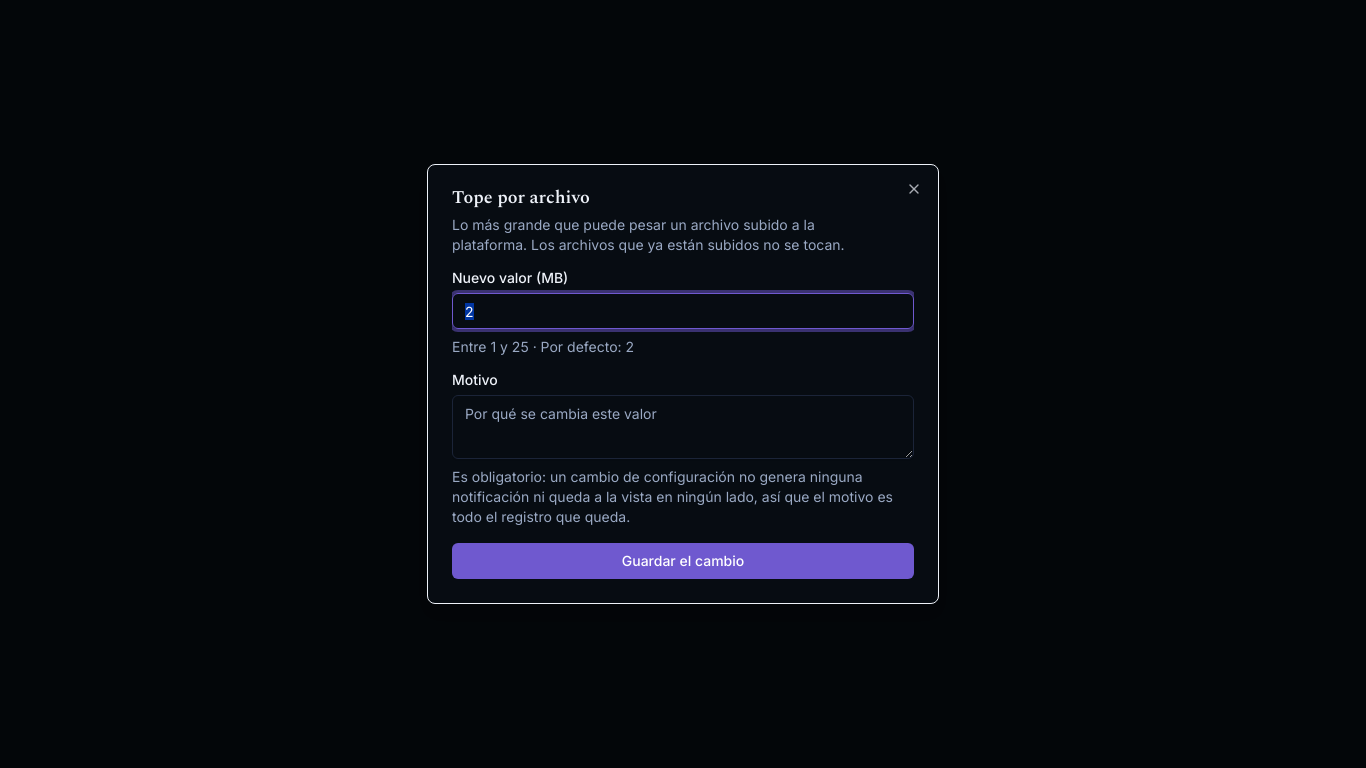
Test: SettingValueDialog › refuses a value outside the setting’s own range, naming both bounds
The image size is (1366, 768).
Replace the text in the field labelled "Nuevo valor (MB)" with "500" at (683, 311), box [452,293,914,329]
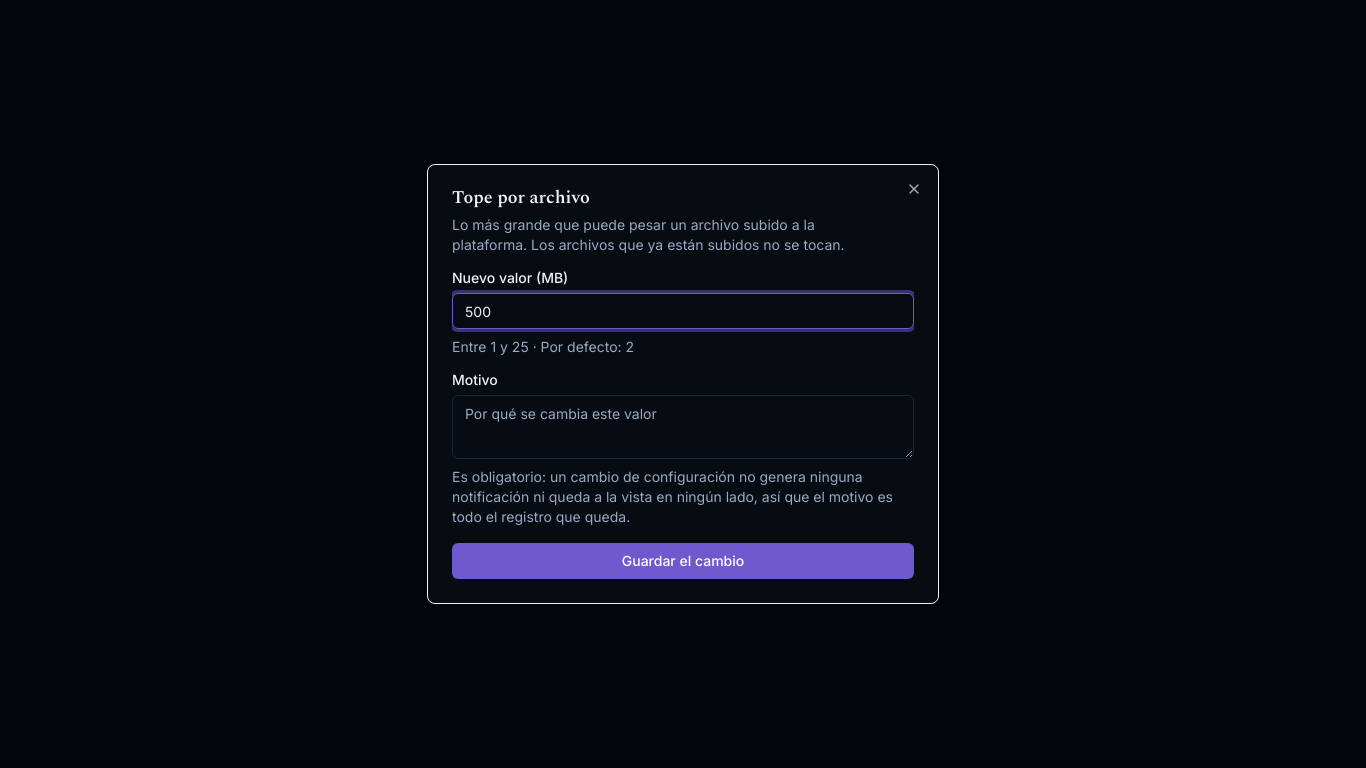
Type "porque sí" into the text box labelled "Motivo" at (683, 427), box [452,395,914,459]
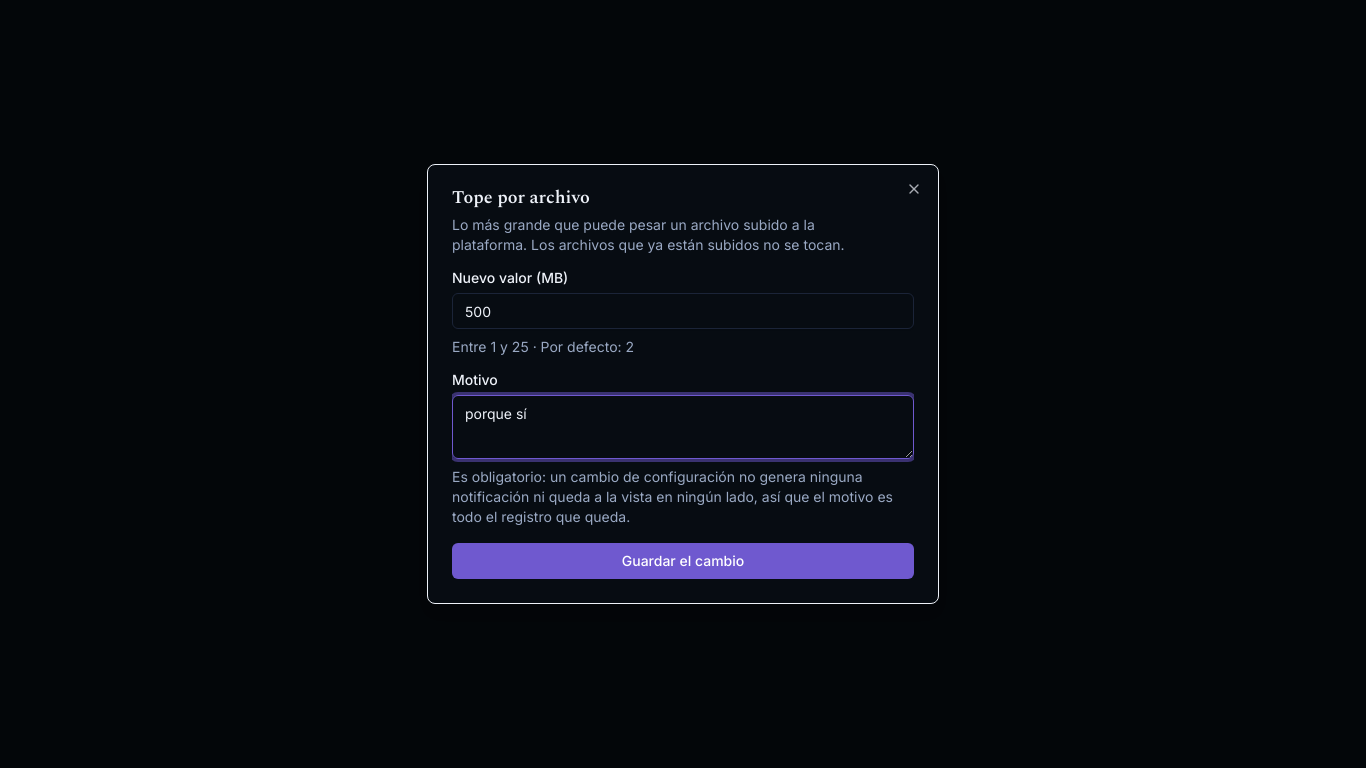
Click the button "Guardar el cambio" at (683, 561), box [452,543,914,579]
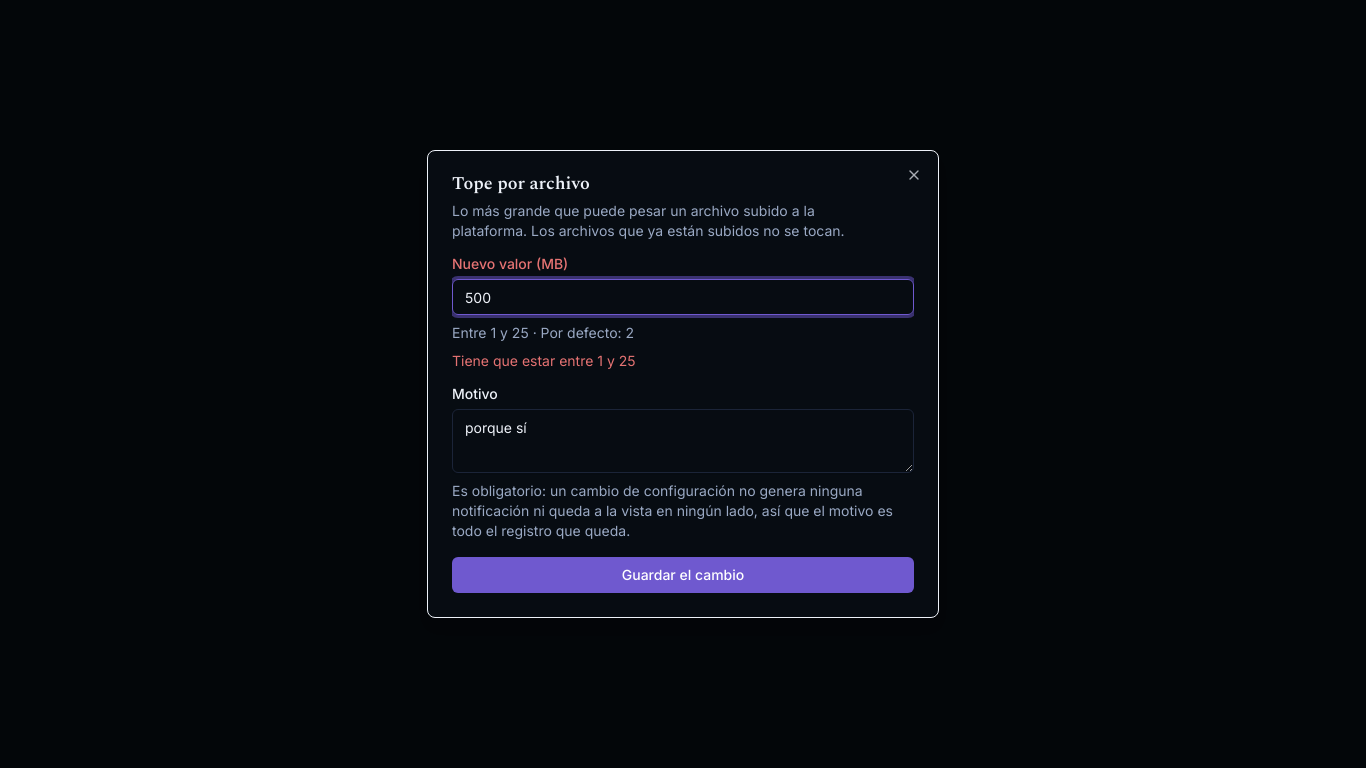
Expected: the text "Tiene que estar entre 1 y 25" is shown, [452,352,636,369]
